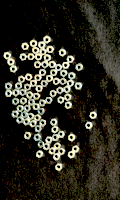nut: (43, 36, 51, 44), (38, 41, 46, 49), (21, 43, 29, 51), (32, 47, 40, 55), (34, 61, 42, 69), (55, 64, 63, 72), (39, 69, 47, 77), (50, 69, 58, 77), (68, 72, 76, 80), (35, 85, 43, 93), (85, 122, 93, 130), (37, 108, 45, 116), (16, 105, 24, 113), (29, 120, 37, 128), (50, 119, 58, 127), (33, 134, 41, 142), (68, 134, 76, 142), (72, 146, 80, 154), (68, 151, 76, 159), (55, 164, 63, 172), (30, 40, 37, 48), (47, 46, 54, 54), (40, 48, 47, 56), (59, 49, 66, 57), (67, 56, 75, 63), (20, 53, 27, 61), (4, 52, 11, 60), (7, 59, 15, 66), (27, 54, 35, 61), (35, 53, 42, 61), (44, 54, 51, 62), (76, 64, 83, 72), (42, 61, 49, 69), (49, 61, 56, 69), (62, 62, 70, 69), (61, 70, 68, 78), (5, 90, 12, 98), (18, 76, 25, 84), (25, 74, 33, 81), (34, 75, 42, 82), (46, 75, 53, 83), (53, 78, 60, 86), (60, 78, 67, 86), (67, 80, 74, 88), (75, 83, 83, 90), (30, 80, 37, 88), (41, 80, 48, 88), (24, 84, 32, 91), (12, 89, 19, 97), (19, 89, 26, 97), (50, 90, 57, 98), (57, 87, 64, 95), (64, 86, 71, 94), (12, 98, 19, 106), (20, 97, 27, 105), (64, 94, 72, 101), (65, 102, 72, 110), (45, 97, 53, 104), (33, 103, 40, 111), (11, 111, 19, 118), (20, 112, 28, 119), (16, 117, 24, 124), (27, 113, 34, 121), (52, 126, 59, 134), (24, 132, 31, 140), (38, 141, 45, 149), (58, 131, 65, 139), (45, 137, 53, 144), (36, 151, 43, 159), (58, 148, 65, 156), (53, 154, 61, 161), (10, 66, 17, 73), (5, 83, 12, 90), (15, 83, 22, 90), (26, 92, 33, 99), (33, 93, 40, 100), (28, 99, 35, 106), (58, 97, 65, 104), (90, 112, 97, 119), (39, 100, 46, 107), (24, 105, 31, 112), (34, 115, 41, 122), (23, 119, 30, 126), (39, 120, 46, 127), (35, 126, 42, 133), (52, 135, 59, 142), (43, 144, 50, 151), (54, 143, 61, 150), (49, 148, 56, 155)
